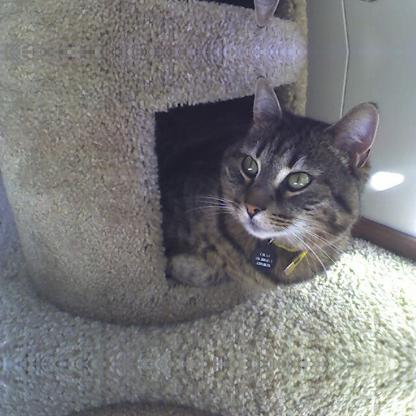Cat: (144, 76, 378, 294)
